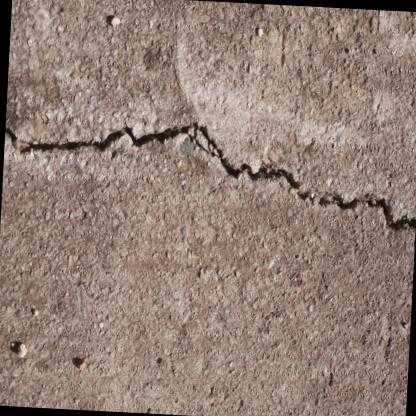crack: (4, 122, 416, 227)
